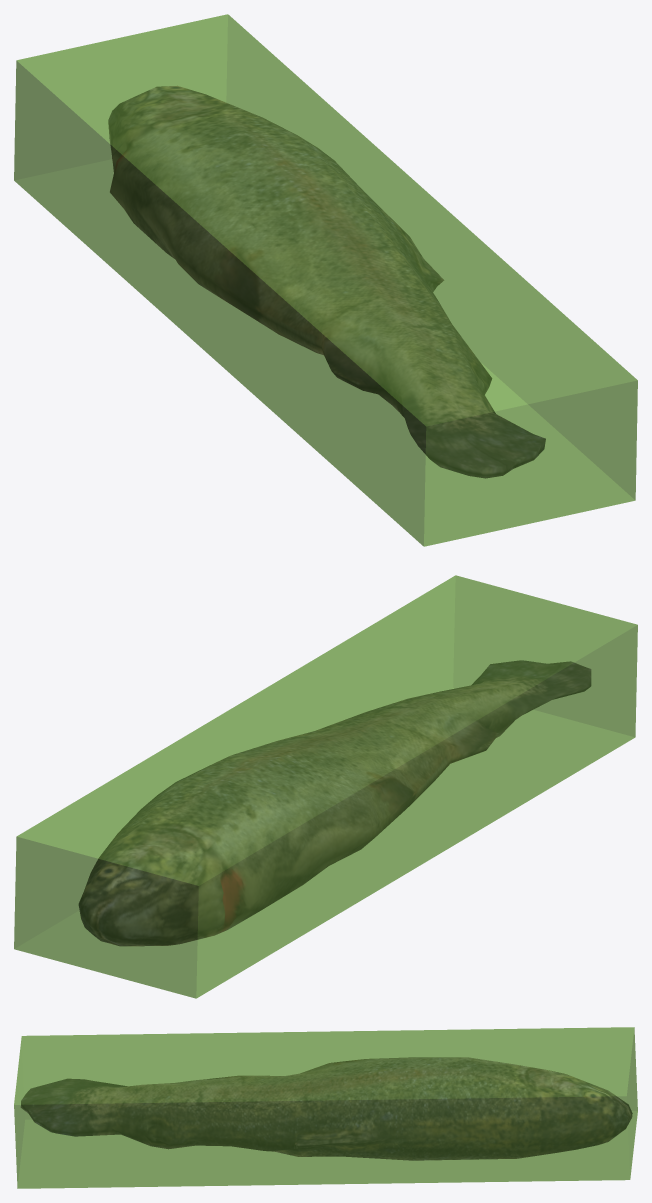
The model's file is pg_Trout_01.fbx.
3 renders of one model, top to bottom at view 1: azimuth 30°, elevation 25°; view 2: azimuth 150°, elevation 25°; view 3: azimuth 270°, elevation 25°, orthographic. The views are drawn at different scales.
Visible parts, largest first — view 1: pg_Trout_01_a_col, pg_Trout_01_a_LOD0; view 2: pg_Trout_01_a_col, pg_Trout_01_a_LOD0; view 3: pg_Trout_01_a_col, pg_Trout_01_a_LOD0.
Boxes of the visible parts, left/top/right/bottom form: pg_Trout_01_a_col: left=14, top=14, right=637, bottom=546; pg_Trout_01_a_LOD0: left=108, top=86, right=545, bottom=478; pg_Trout_01_a_col: left=14, top=575, right=637, bottom=998; pg_Trout_01_a_LOD0: left=78, top=660, right=591, bottom=946; pg_Trout_01_a_col: left=14, top=1027, right=637, bottom=1188; pg_Trout_01_a_LOD0: left=21, top=1057, right=632, bottom=1160.
Size of what is drawn, in the model's own units: 14.41 by 8.66 by 46.71.
